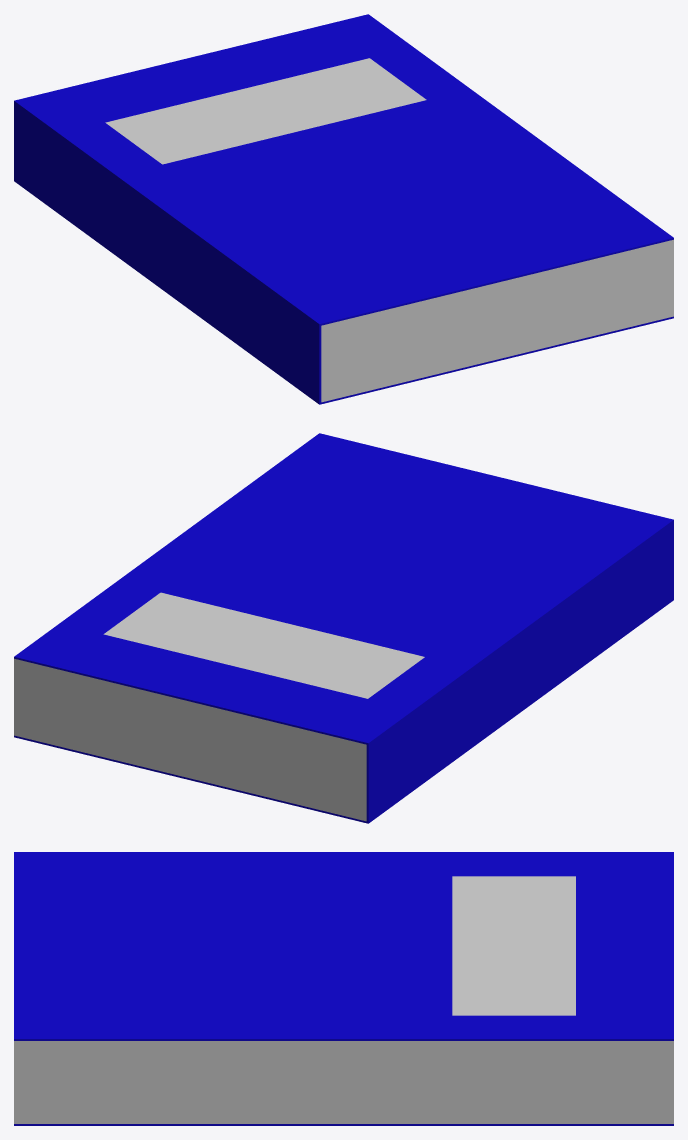
The model's file is Book9.fbx.
3 views of the same model, one above another, from view 1: azimuth 30°, elevation 25°; view 2: azimuth 150°, elevation 25°; view 3: azimuth 270°, elevation 25° (orthographic). The views are drawn at different scales.
Visible parts, largest first — view 1: Cube; view 2: Cube; view 3: Cube.
Boxes of the visible parts, x1,y1,x2,y2 form: Cube: (14,14,673,404); Cube: (14,433,673,823); Cube: (14,852,673,1125).
Bounding box in the file's own units: 0.3015 × 0.0654 × 0.45.
